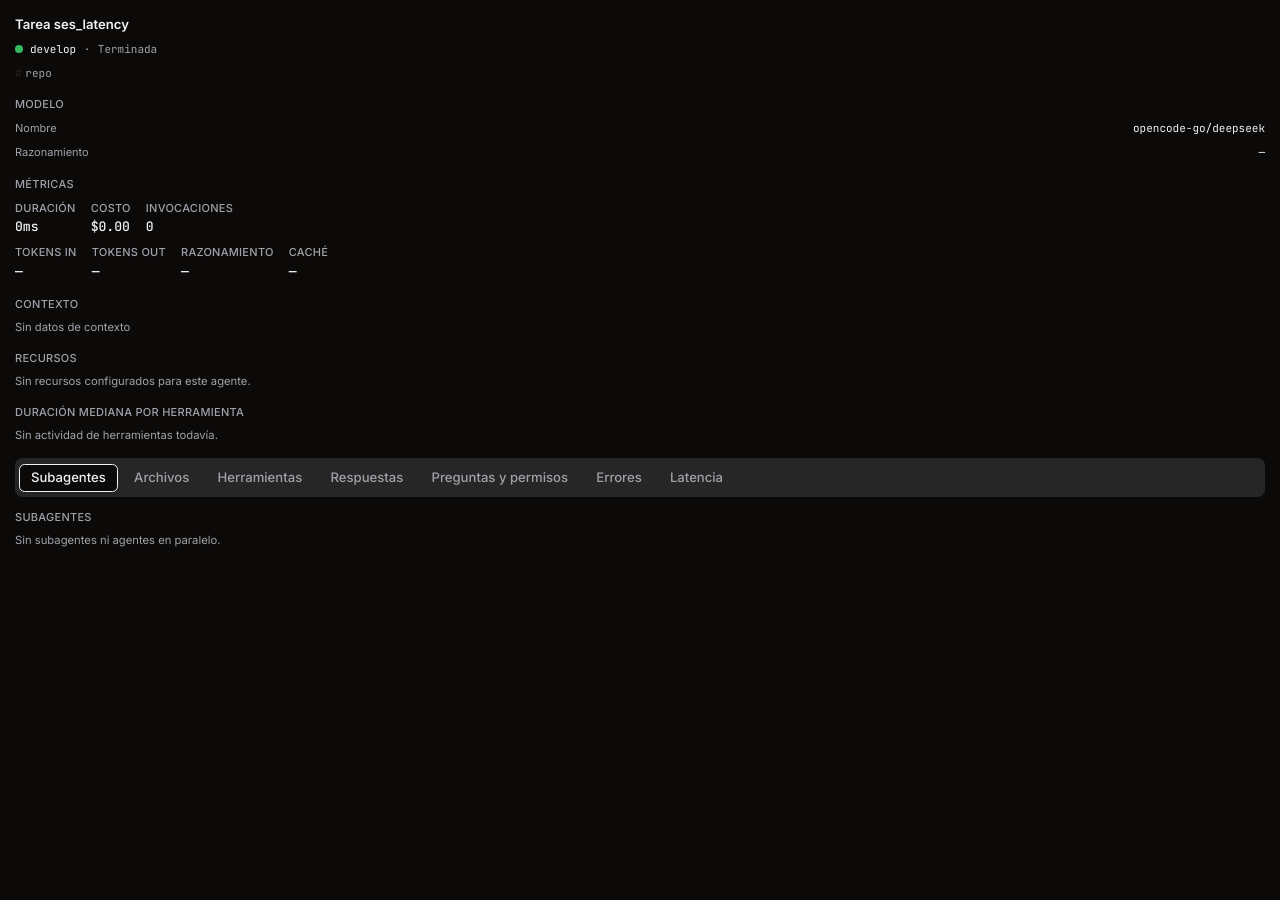
Test case: InspectorPanel — cadena contexto/latencia → pestaña Latencia (§5, FR-009) › las anomalías no filtran ni deshabilitan la sección: siguen todas las respuestas y el control opera
Click the tab "Latencia": (696, 478) 658,464 -> 735,492
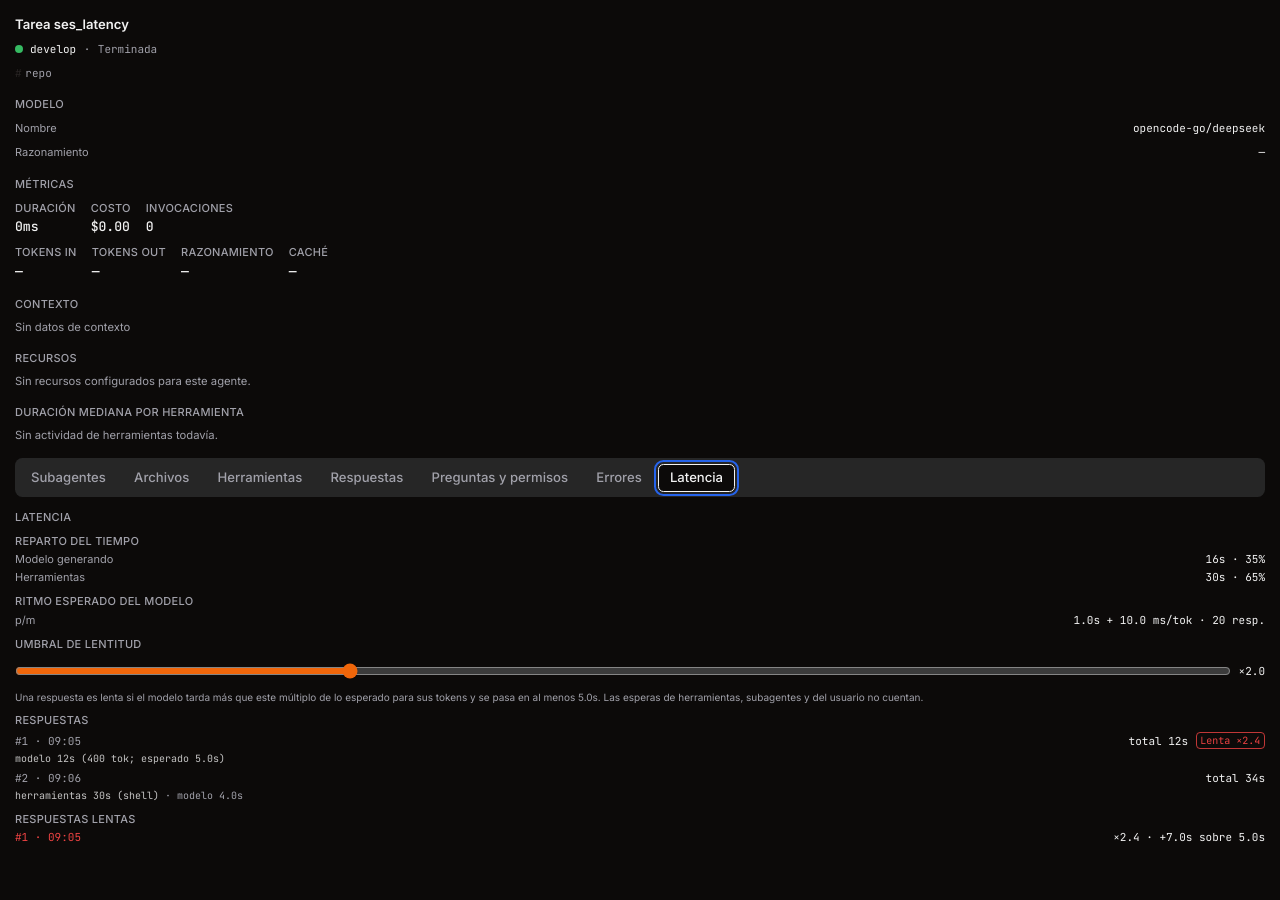
Expected: the number of lists is 2, 15,712 -> 1265,804; 15,811 -> 1265,846
Expected: the number of list items is 3, 15,732 -> 1265,766; 15,770 -> 1265,803; 15,829 -> 1265,846
Expected: the slider is enabled
Set the slider to "200": (787, 671) 15,660 -> 1231,682
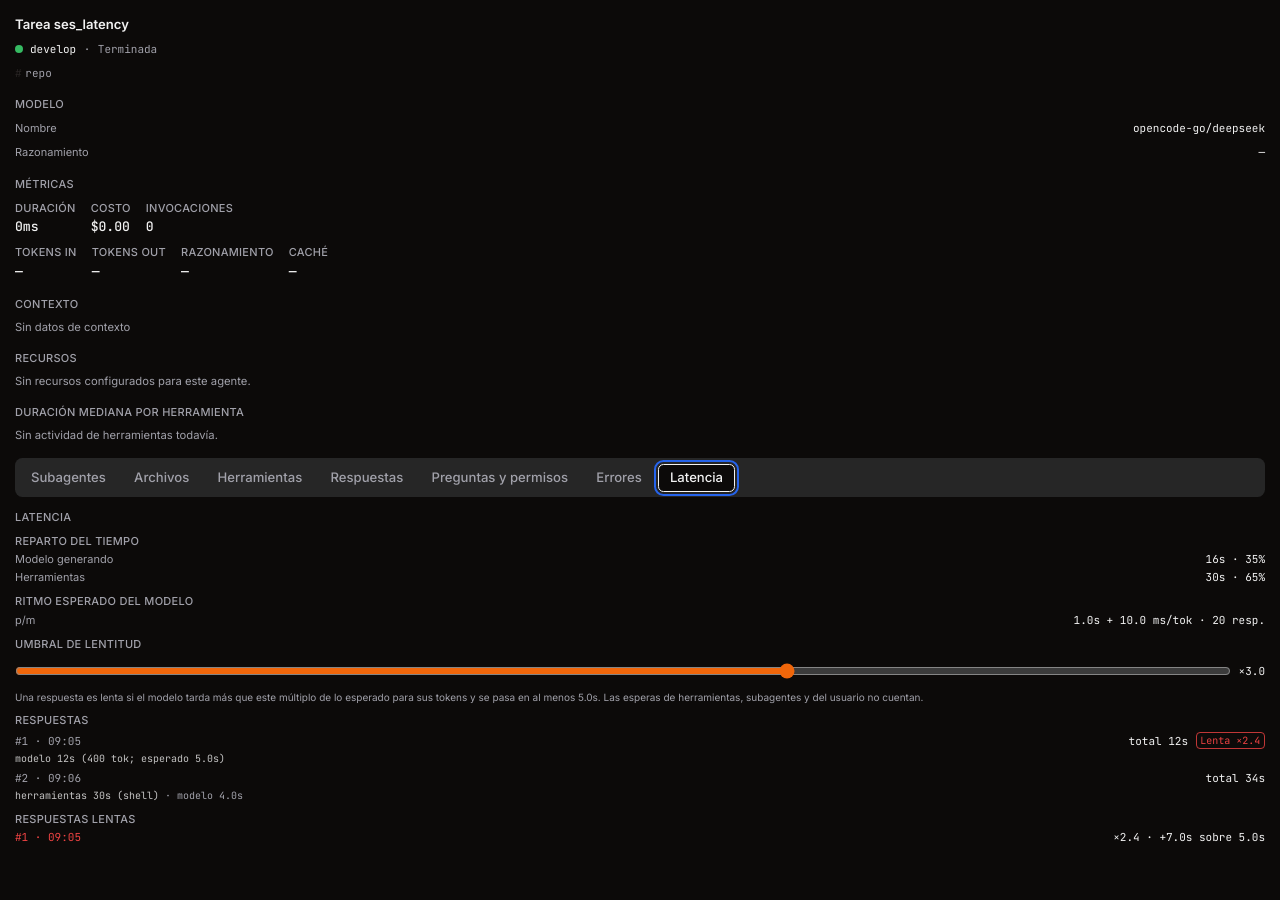
Expected: the element with test id "latency-section" is shown, 15,508 -> 1265,846
Expected: the text "×3.0" is shown, 1239,663 -> 1265,679
